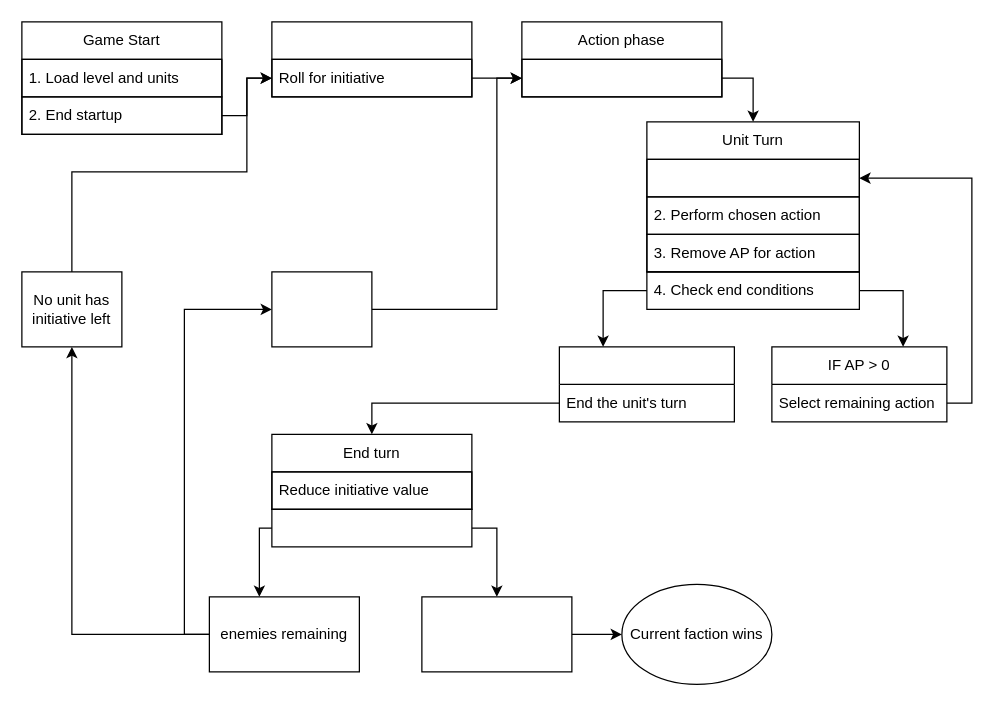
This 1004x706 diagram has some shape labels left out. Here are the shapes that lost their labels. From the top down, the box of each, then its label:
(271, 21, 472, 97): Initiative Phase
(521, 58, 722, 97): Start unit turnof first in the initiative list
(646, 158, 859, 197): 1. Check AP & display available actions
(271, 271, 372, 347): Units have remaining initiative
(558, 346, 734, 422): IF AP = 0
(271, 508, 472, 547): Check for remaining units
(421, 596, 572, 672): no enemies left
